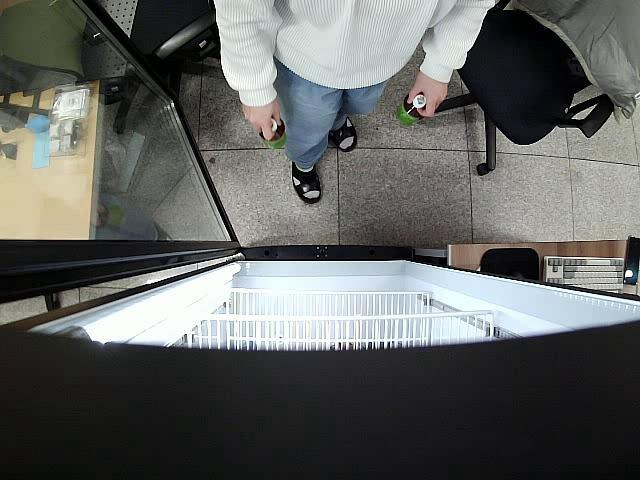19_17cha: (398, 94, 427, 126), (260, 118, 286, 150)
